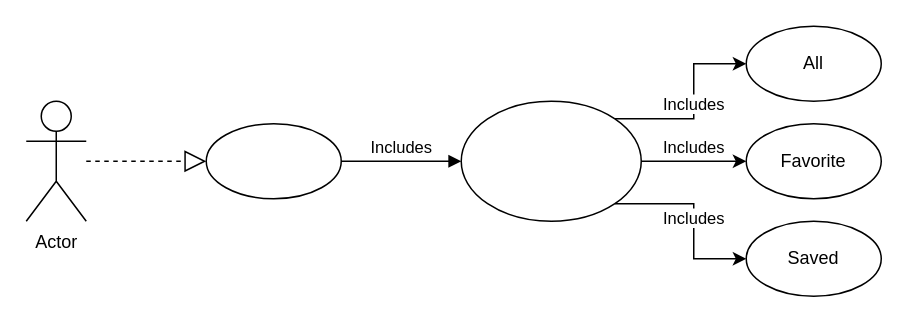
Some shapes in this 908 by 323 pixel diagram are drawn without their labels. The centre of each missing label's shape, as x and y in pixels:
"Log In" belongs at (x=273, y=160).
"View Games" belongs at (x=550, y=160).
